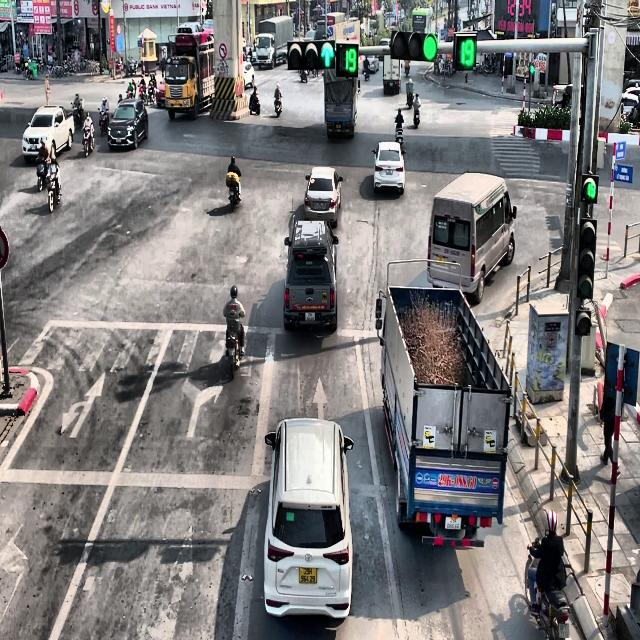lisence_plate: (414, 468, 500, 493), (298, 566, 317, 584), (444, 515, 462, 530), (444, 246, 460, 257), (303, 310, 316, 322), (436, 254, 445, 265), (385, 167, 395, 176), (315, 200, 324, 210), (334, 122, 342, 130), (390, 80, 394, 88)
